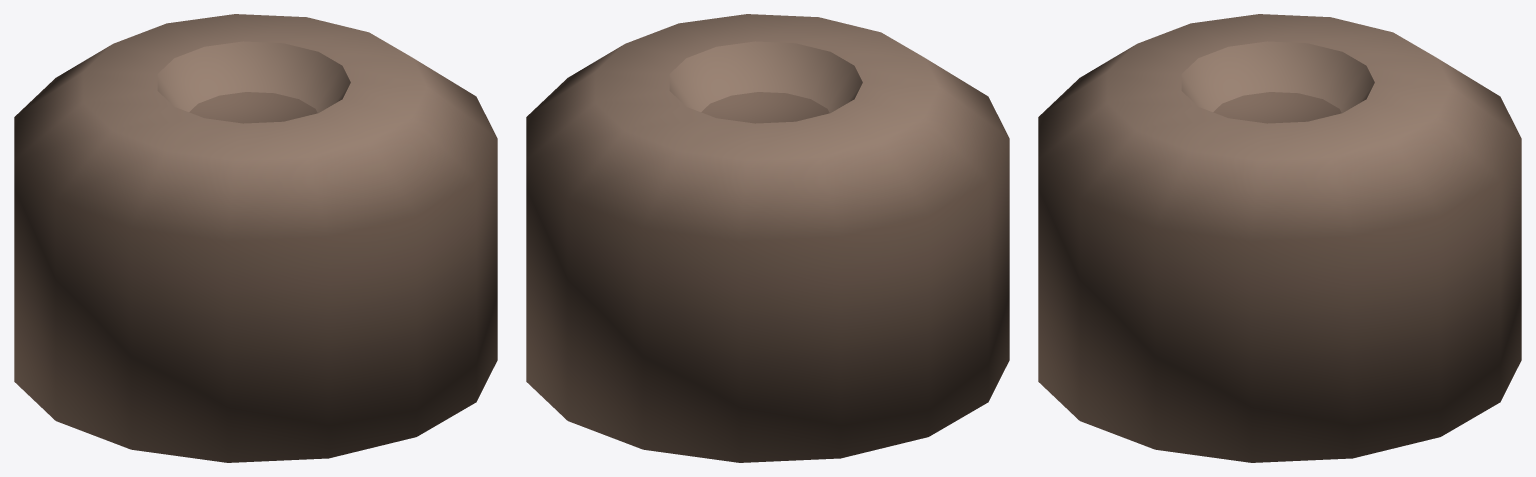
The model's file is part_Chocolate_4.fbx.
3 renders of one model, left to right at view 1: azimuth 30°, elevation 25°; view 2: azimuth 150°, elevation 25°; view 3: azimuth 270°, elevation 25°, orthographic.
Visible parts, largest first — view 1: choco_4; view 2: choco_4; view 3: choco_4.
Boxes of the visible parts, <box> form: choco_4: <box>14,14,497,462</box>; choco_4: <box>526,14,1009,462</box>; choco_4: <box>1038,14,1521,462</box>.
Bounding box in the file's own units: 13.12 × 8.28 × 13.05.
